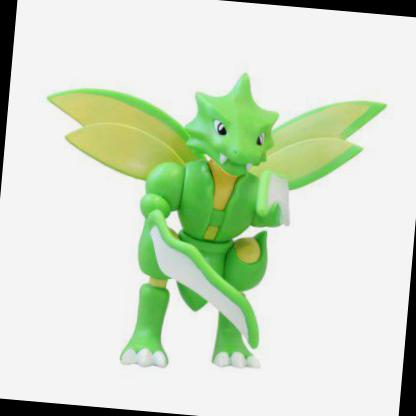Sichlor: (9, 0, 415, 415)
